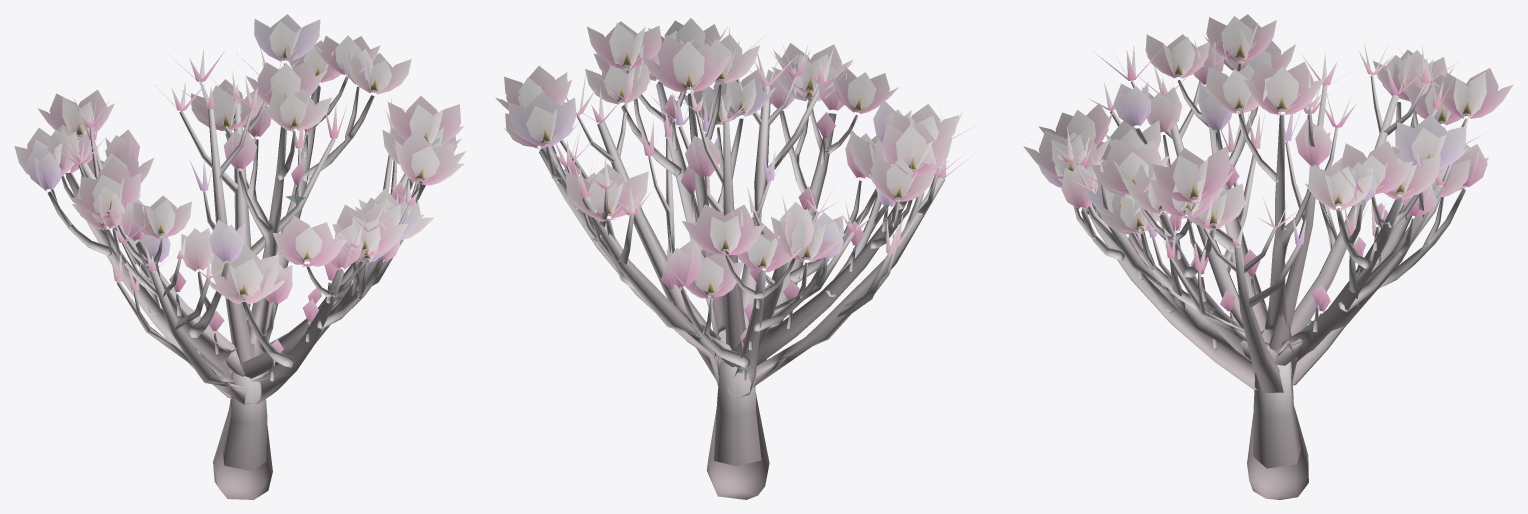
The model's file is magnolia.glb.
The picture shows the model from 3 angles, left to right: view 1: azimuth 30°, elevation 25°; view 2: azimuth 150°, elevation 25°; view 3: azimuth 270°, elevation 25°; orthographic projection. The views are drawn at different scales.
Visible parts, largest first — view 1: near, far; view 2: near, far; view 3: near, far.
Boxes of the visible parts, x1,y1,x2,y2 form: near: (14, 14, 465, 499); far: (60, 47, 429, 470); near: (495, 18, 959, 499); far: (550, 28, 983, 466); near: (1023, 14, 1513, 499); far: (1034, 38, 1487, 468).
Bounding box in the file's own units: 5.58 × 5.76 × 5.76.
